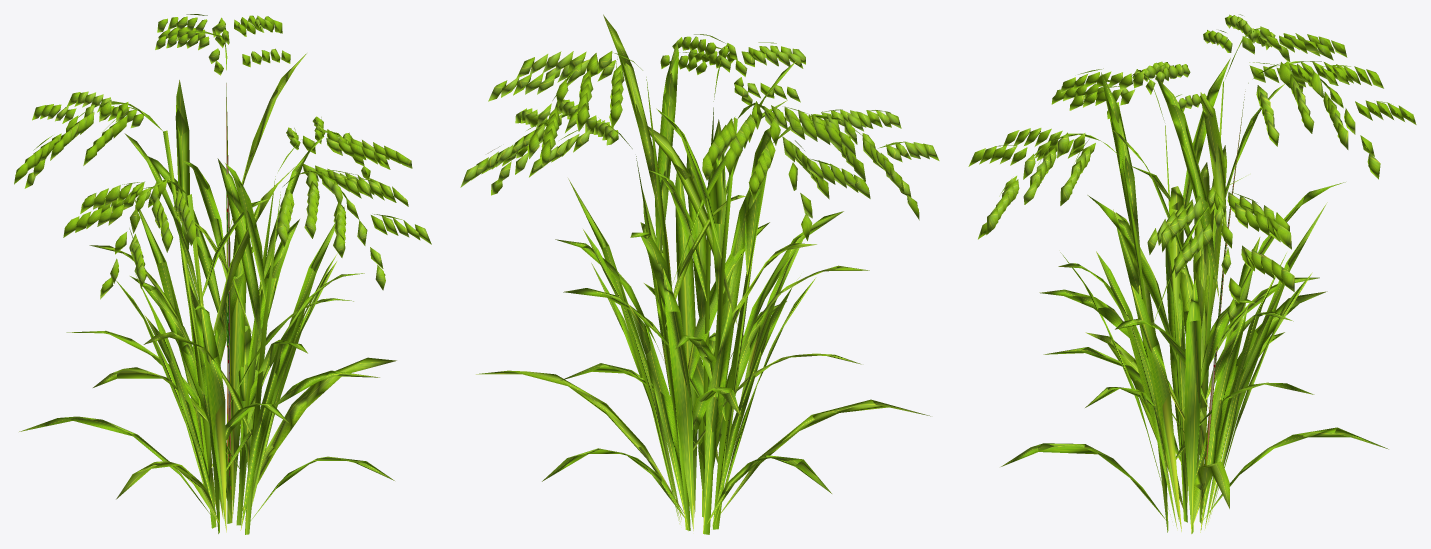
Rendered from NP_Rice_Heading_LOD1.fbx.
3 renders of one model, left to right at view 1: azimuth 30°, elevation 25°; view 2: azimuth 150°, elevation 25°; view 3: azimuth 270°, elevation 25°, orthographic. The views are drawn at different scales.
Parts seen in each view (by area): view 1: NP_Rice_Heading; view 2: NP_Rice_Heading; view 3: NP_Rice_Heading.
Part boxes in pixels (<box>): NP_Rice_Heading: <box>14,14,431,534</box>; NP_Rice_Heading: <box>460,14,939,534</box>; NP_Rice_Heading: <box>968,14,1416,533</box>.
Bounding box in the file's own units: 92.96 × 110 × 91.43.
